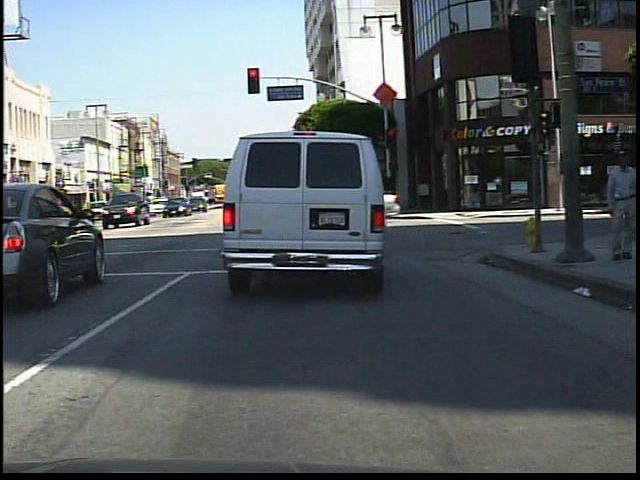person: (601, 146, 636, 265)
